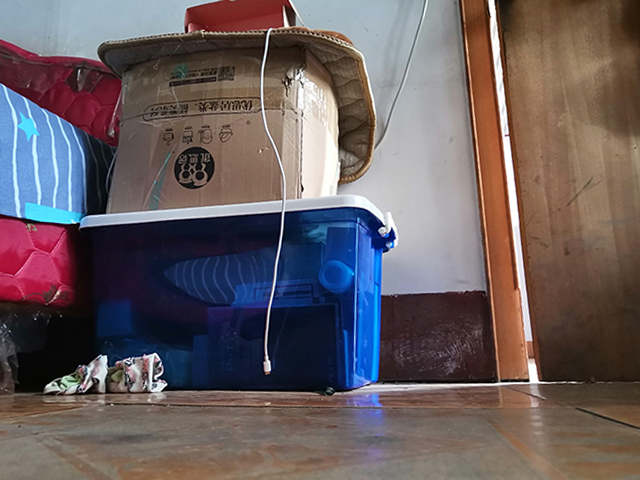socks: (41, 350, 168, 396)
wire: (256, 1, 432, 376)
